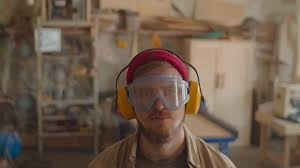safety_goggles: (126, 78, 196, 113)
